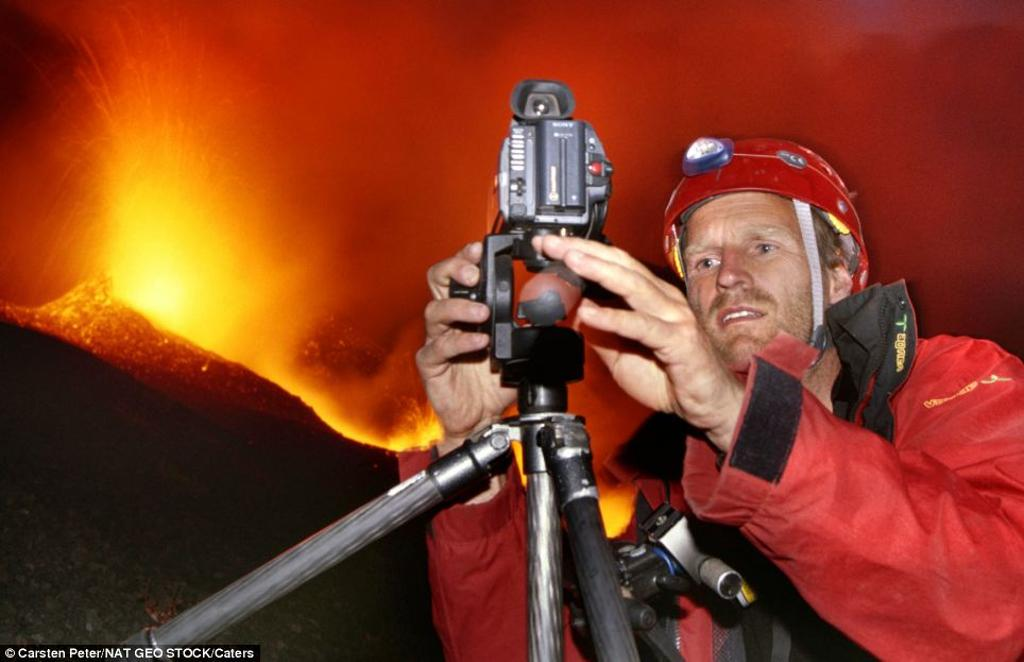face: (688, 190, 812, 364)
